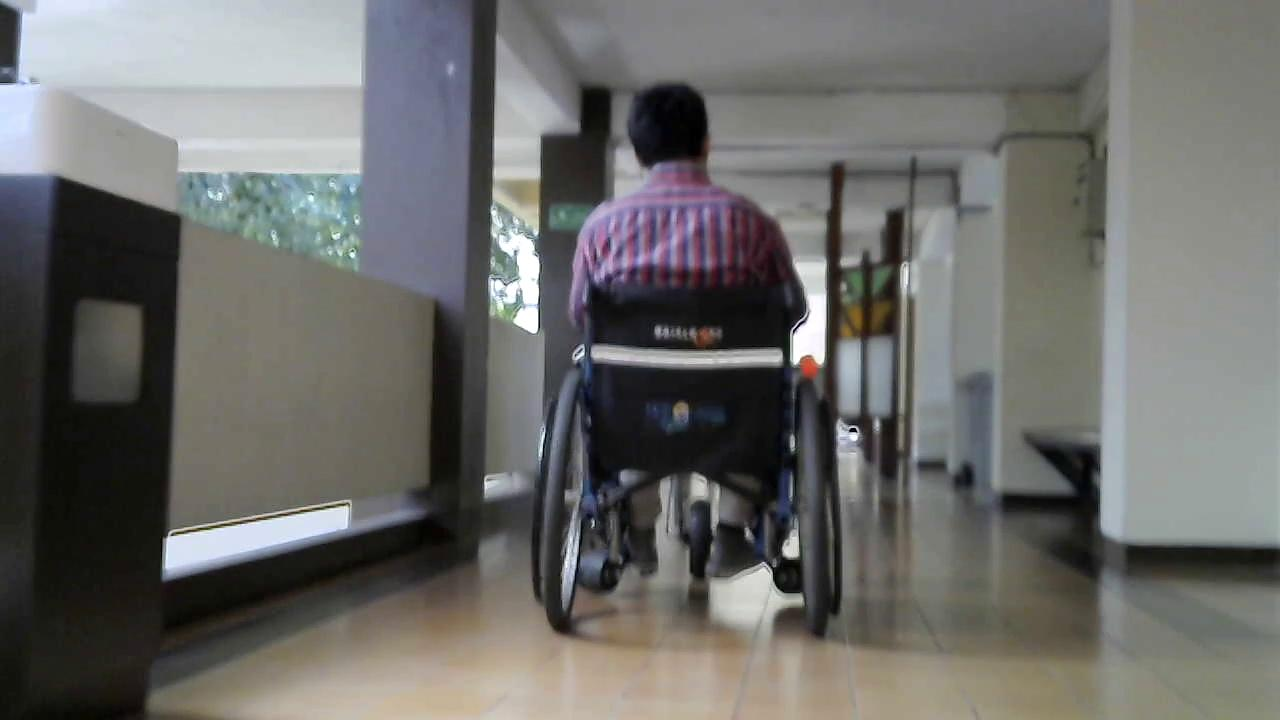person: (562, 80, 811, 596)
wheelchair: (521, 268, 881, 681)
